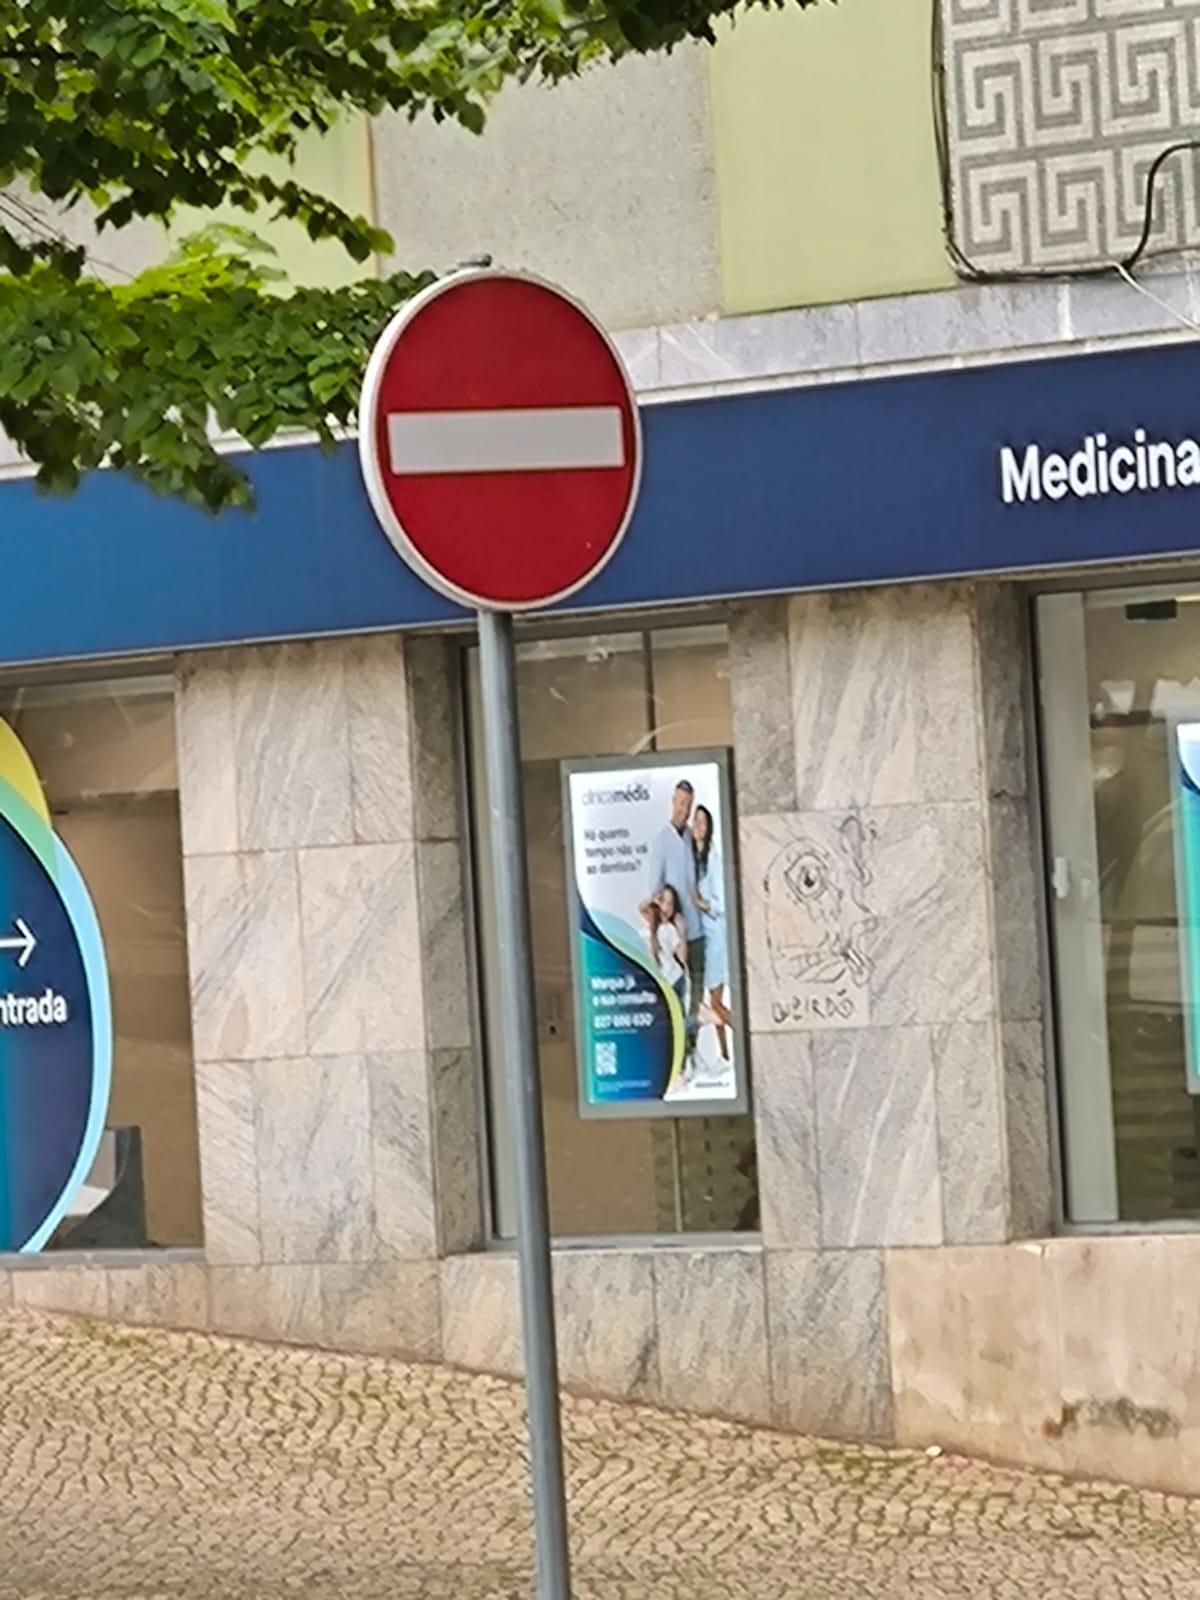parar: (353, 278, 668, 625)
